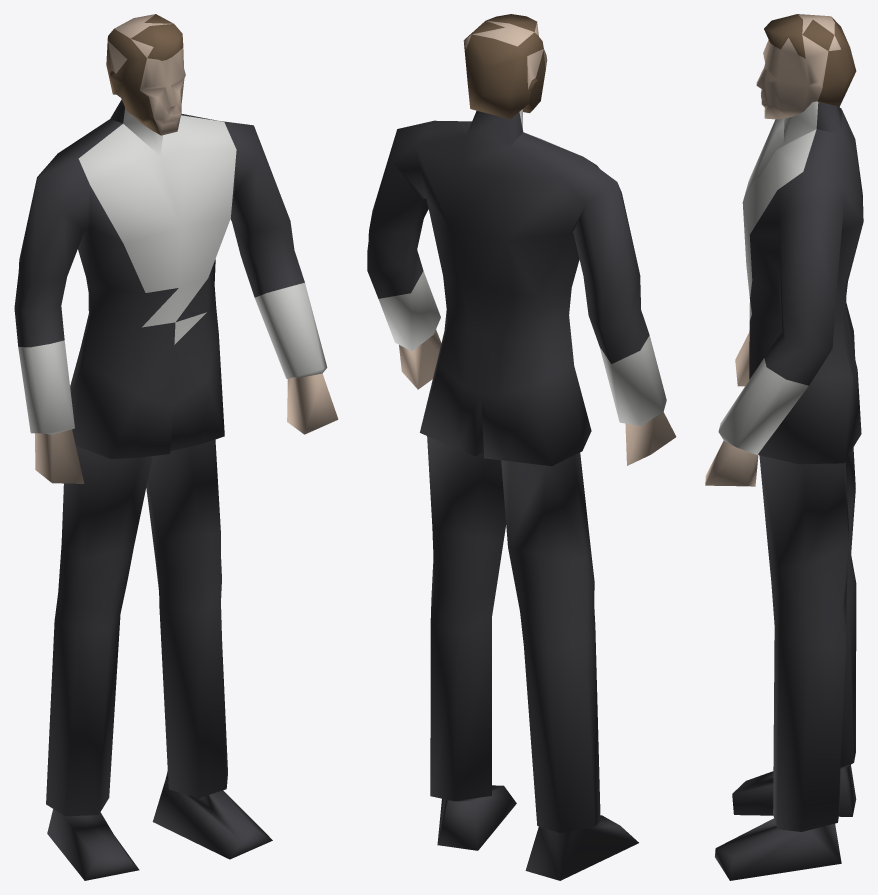
The model's file is Bond_Tuxedo.glb.
3 renders of one model, left to right at view 1: azimuth 30°, elevation 25°; view 2: azimuth 150°, elevation 25°; view 3: azimuth 270°, elevation 25°, orthographic.
Parts seen in each view (by area): view 1: Bond; view 2: Bond; view 3: Bond.
Part boxes in pixels (x1,y1,x2,y2): Bond: [14, 14, 338, 880]; Bond: [367, 14, 676, 880]; Bond: [705, 14, 863, 880].
Size of the model in its own units: 0.6684 by 1.85 by 0.3235.
